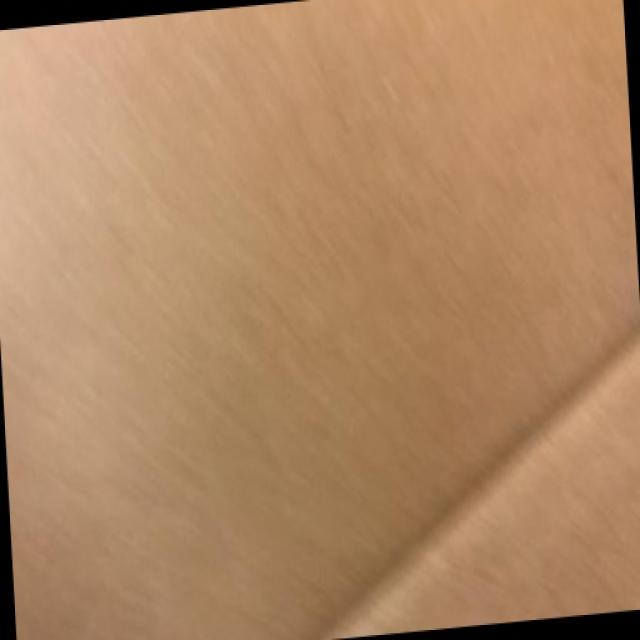carton: (156, 152, 468, 636)
